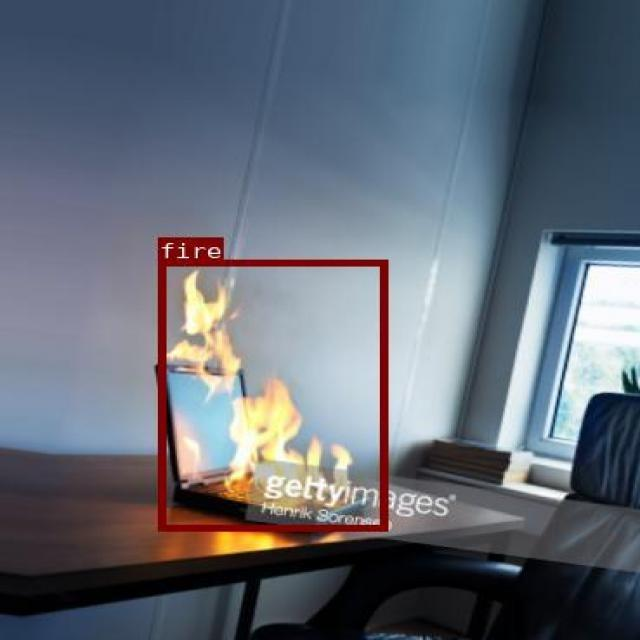fire: (157, 259, 386, 530)
